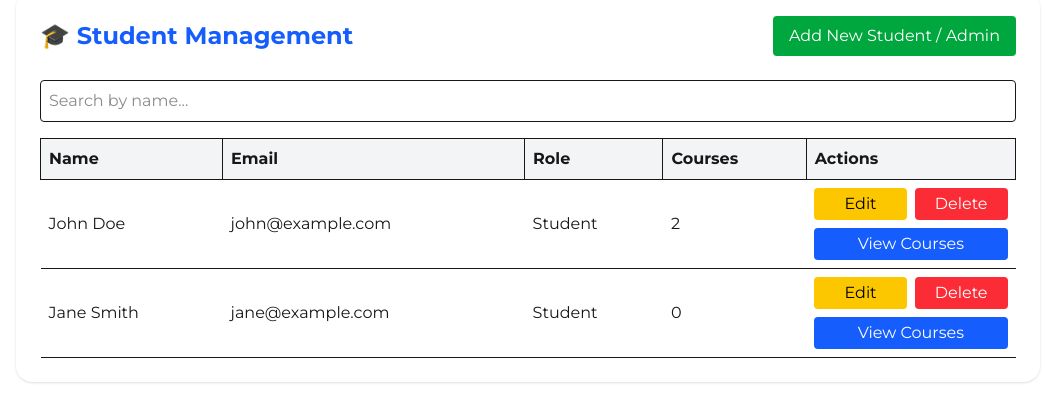
Scenario: StudentManagement Page › filters students by search
Expected: the text "John Doe" is shown, x1=40 y1=180 x2=222 y2=268
Type "Jane" into the field with placeholder "Search by name...".
click(528, 101); type("Jane")  # box x1=40 y1=80 x2=1016 y2=122
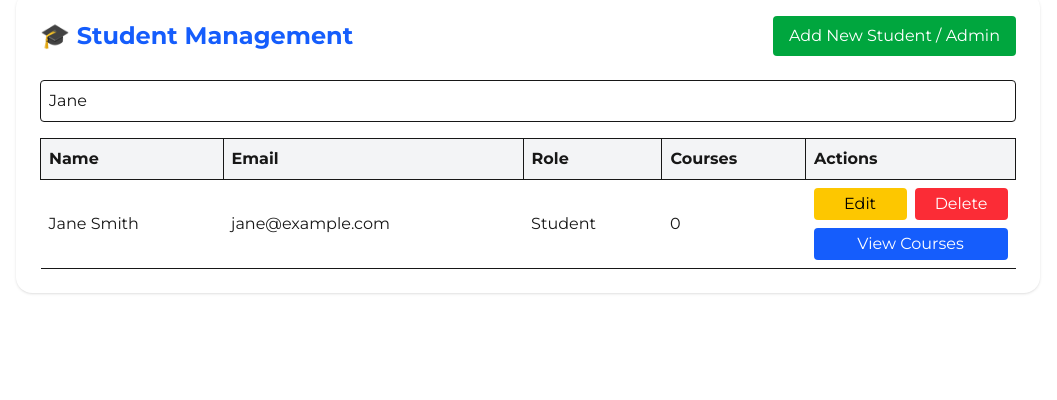
Expected: the text "Jane Smith" is shown, x1=40 y1=180 x2=223 y2=268
Expected: the text "John Doe" is gone
